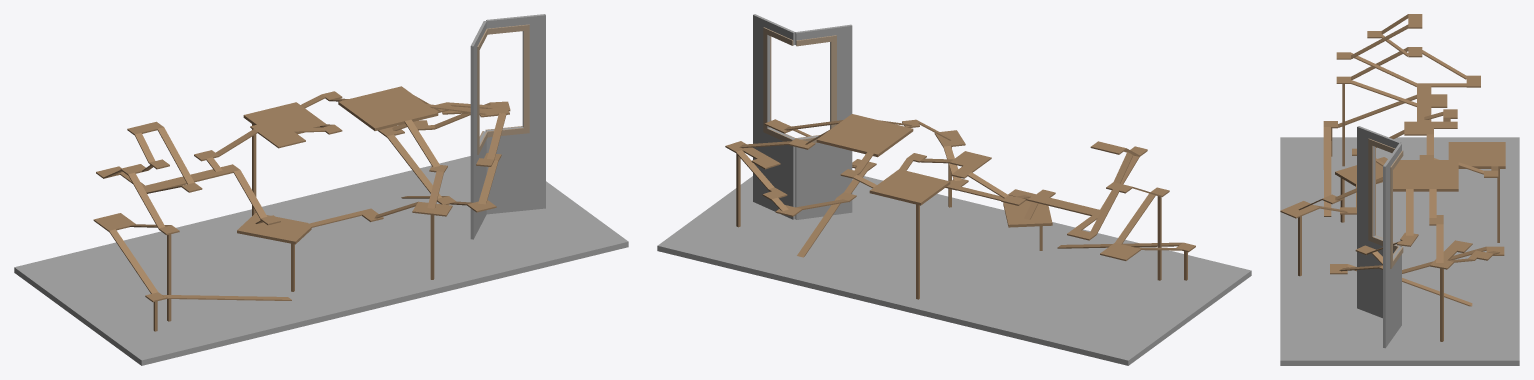
Rendered from 02_JIE.glb.
3 renders of one model, left to right at view 1: azimuth 30°, elevation 25°; view 2: azimuth 150°, elevation 25°; view 3: azimuth 270°, elevation 25°, orthographic. The views are drawn at different scales.
Visible parts, largest first — view 1: 01 DIZUO, 02 JIE; view 2: 01 DIZUO, 02 JIE; view 3: 01 DIZUO, 02 JIE.
Boxes of the visible parts, left/top/right/bottom form: 01 DIZUO: left=14, top=86, right=628, bottom=365; 02 JIE: left=470, top=14, right=545, bottom=239; 01 DIZUO: left=657, top=114, right=1251, bottom=365; 02 JIE: left=753, top=14, right=852, bottom=219; 01 DIZUO: left=1280, top=14, right=1519, bottom=365; 02 JIE: left=1357, top=126, right=1403, bottom=348.
Bounding box in the file's own units: 9.23 × 3.6 × 4.18.
